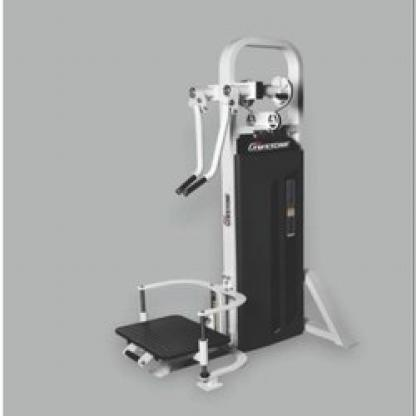lateral raises machine: (116, 38, 361, 391)
